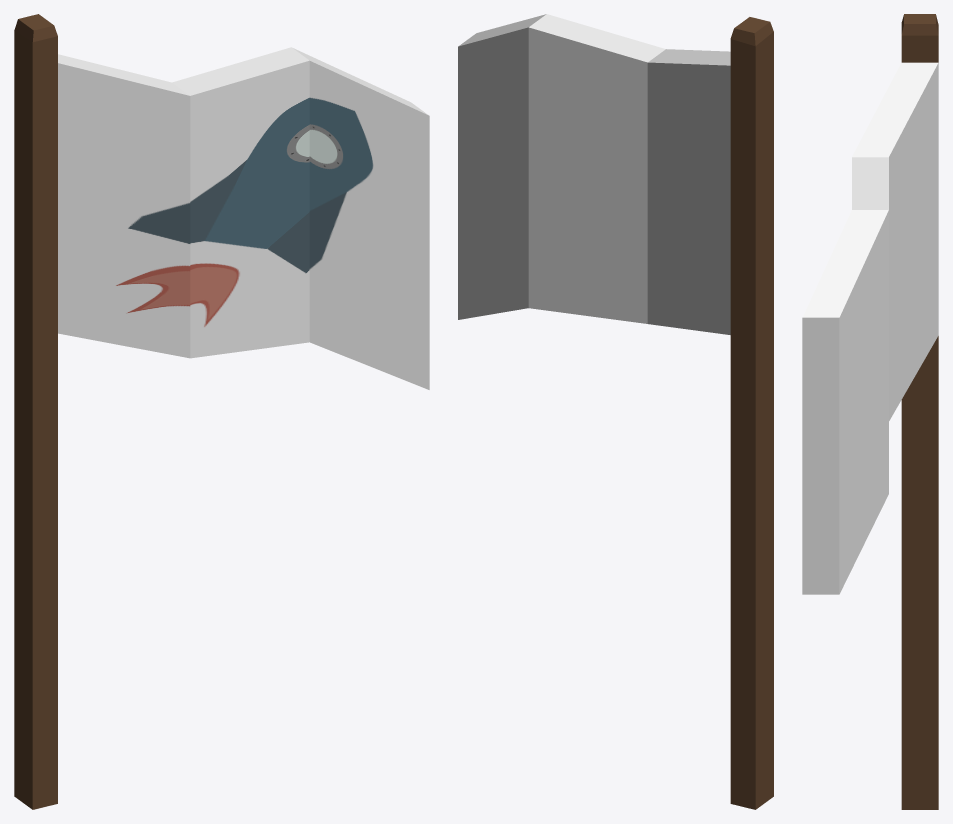
File: flag.fbx
3 views of the same model, side by side, from view 1: azimuth 30°, elevation 25°; view 2: azimuth 150°, elevation 25°; view 3: azimuth 270°, elevation 25° (orthographic).
Visible parts, largest first — view 1: Cube; view 2: Cube; view 3: Cube.
Boxes of the visible parts, x1,y1,x2,y2 form: Cube: (14, 14, 429, 809); Cube: (458, 14, 773, 809); Cube: (802, 14, 938, 809).
Bounding box in the file's own units: 5.41 × 11.56 × 1.82.
